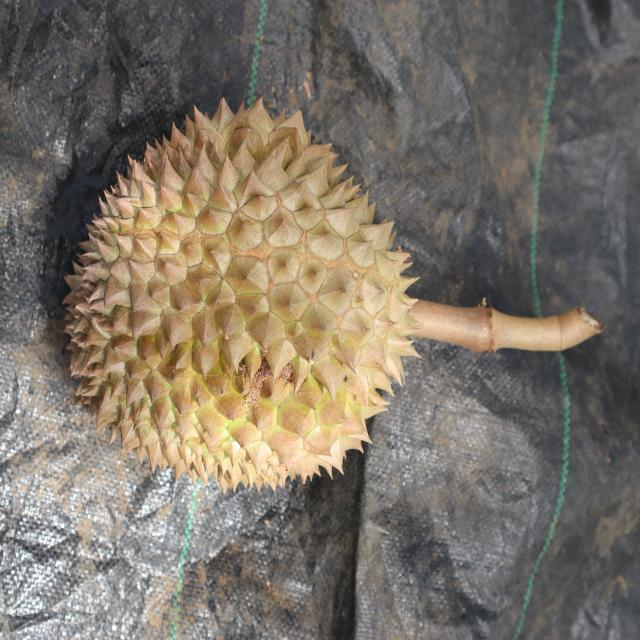mature: (64, 97, 424, 496)
